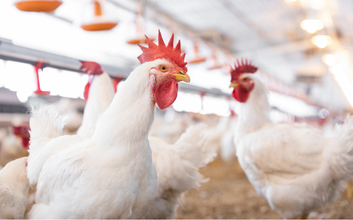Healthy: (107, 27, 196, 133), (221, 53, 278, 124)
